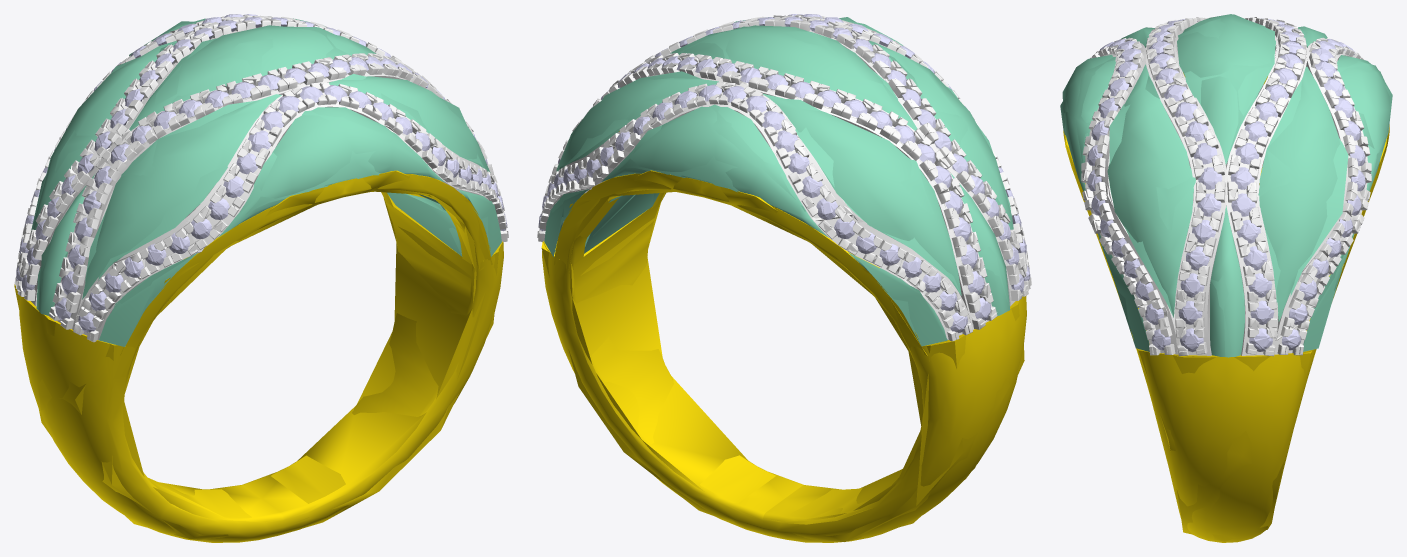
Rendered from DLR-D000677785.glb.
3 renders of one model, left to right at view 1: azimuth 30°, elevation 25°; view 2: azimuth 150°, elevation 25°; view 3: azimuth 270°, elevation 25°, orthographic. The views are drawn at different scales.
Visible parts, largest first — view 1: highPolyMesh, lowPolyMesh; view 2: highPolyMesh, lowPolyMesh; view 3: highPolyMesh, lowPolyMesh.
Boxes of the visible parts, x1,y1,x2,y2 form: highPolyMesh: (16,14,507,542); lowPolyMesh: (14,14,508,540); highPolyMesh: (538,14,1030,542); lowPolyMesh: (537,14,1031,541); highPolyMesh: (1062,14,1390,542); lowPolyMesh: (1060,14,1392,541).
Bounding box in the file's own units: 0.0226 × 0.0239 × 0.0148.
